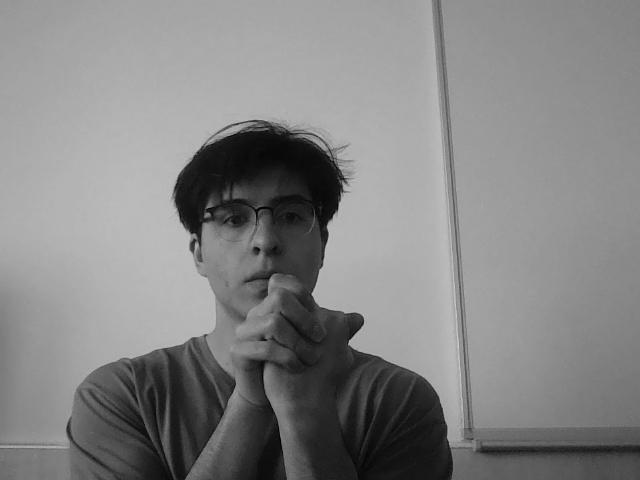friend: (219, 271, 372, 456)
